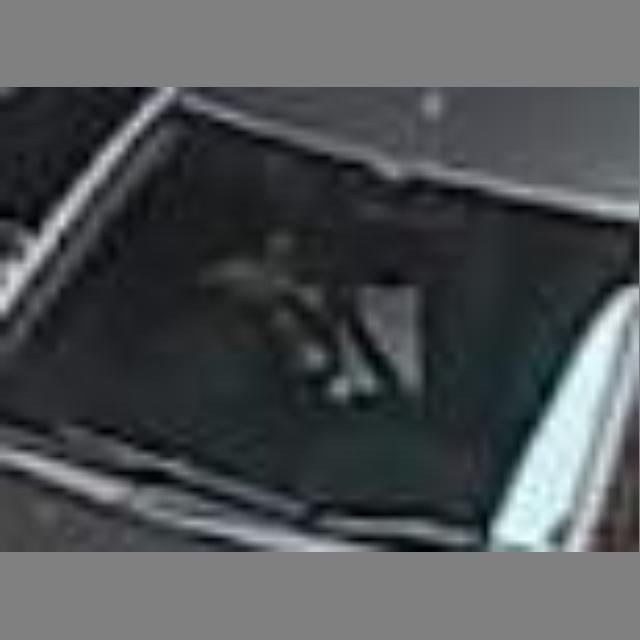pakai: (224, 203, 449, 386)
